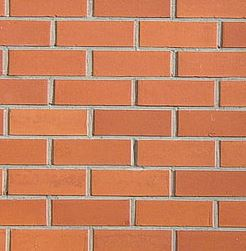brick: (92, 107, 173, 138), (51, 137, 133, 167), (54, 18, 135, 48), (136, 138, 216, 168), (6, 48, 87, 77), (91, 50, 174, 78), (50, 198, 133, 226), (138, 20, 220, 48), (7, 107, 89, 135), (6, 167, 88, 195), (52, 78, 135, 105), (173, 169, 246, 199), (135, 198, 215, 225), (175, 108, 246, 138), (136, 79, 217, 105), (90, 169, 171, 194), (175, 50, 246, 78), (11, 227, 91, 251), (93, 228, 175, 251), (176, 229, 245, 251), (1, 19, 54, 47), (1, 197, 48, 227), (1, 78, 51, 106), (1, 137, 49, 166), (92, 1, 173, 18), (9, 1, 88, 18), (176, 1, 246, 19), (218, 79, 246, 108), (219, 139, 245, 168), (218, 200, 246, 226), (221, 22, 246, 48)
